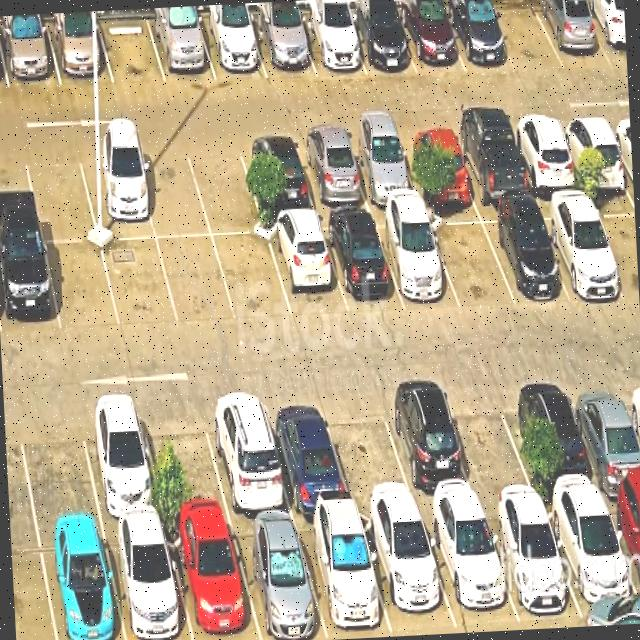empty: (444, 380, 539, 504), (139, 399, 231, 522), (322, 390, 417, 508), (15, 402, 101, 528), (426, 210, 515, 308), (186, 139, 265, 236), (135, 144, 211, 238), (157, 237, 237, 325), (23, 148, 98, 241), (102, 239, 179, 329), (213, 235, 292, 321), (45, 242, 120, 332), (487, 0, 564, 74), (589, 196, 639, 301), (98, 16, 166, 83)
occupied: (543, 496, 640, 625), (380, 384, 480, 509), (295, 513, 393, 640), (482, 503, 583, 623), (421, 506, 520, 628), (229, 518, 328, 640), (359, 512, 457, 632), (202, 391, 293, 518), (165, 520, 261, 640), (262, 393, 353, 513), (77, 400, 165, 523), (515, 377, 603, 500), (104, 523, 193, 640), (38, 526, 125, 640), (535, 197, 626, 299), (478, 206, 568, 304), (567, 375, 640, 495), (266, 217, 348, 320), (320, 213, 404, 313), (373, 212, 460, 308), (77, 146, 156, 240), (451, 124, 532, 203), (239, 136, 317, 216), (0, 239, 61, 336), (294, 134, 370, 211), (344, 131, 421, 206), (398, 127, 476, 201), (508, 118, 583, 194), (532, 0, 612, 69), (558, 116, 632, 189), (395, 1, 466, 75), (442, 1, 516, 72), (345, 7, 417, 75), (197, 15, 268, 81), (46, 18, 113, 86), (148, 15, 216, 82), (296, 12, 367, 75), (250, 14, 316, 78), (0, 21, 61, 88), (603, 492, 640, 602), (582, 0, 627, 66)
